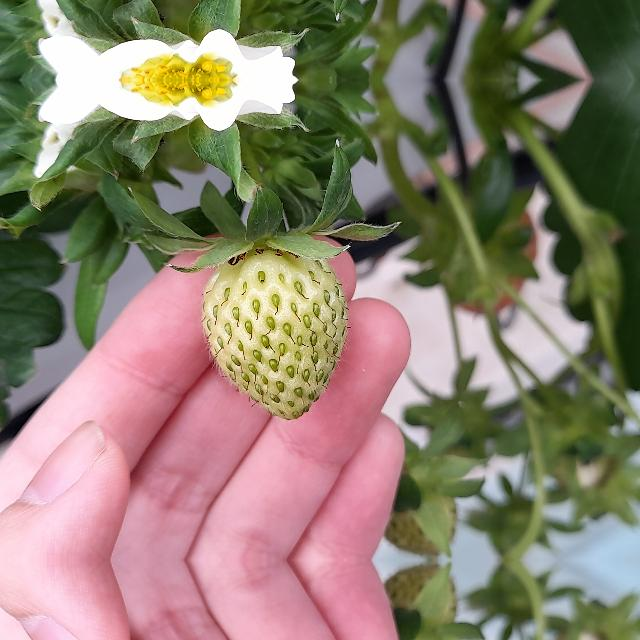Health_25: (201, 248, 347, 420)
